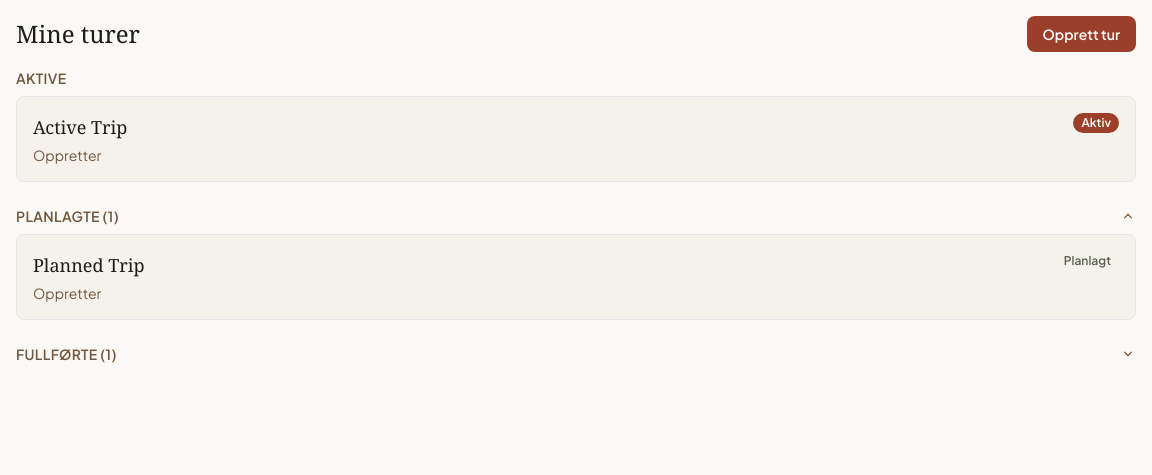
it: TripDashboardScreen › renders trips under correct status group headings
Check: the text "Active Trip" is shown, box 33,113 -> 127,141
Check: the text "Planned Trip" is shown, box 33,251 -> 144,279
Click the button "Fullførte (1)": {"x": 57, "y": 354} 16,344 -> 1136,364
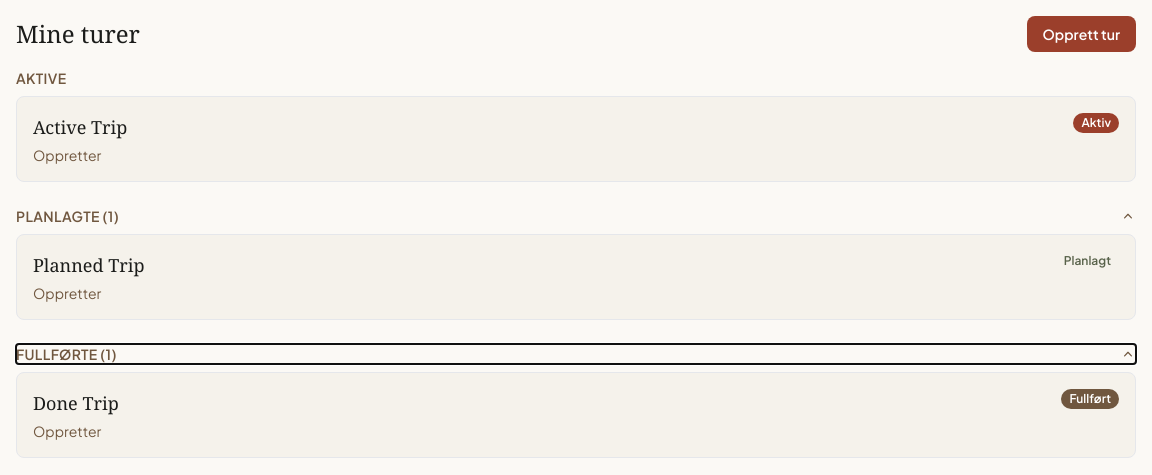
Check: the text "Done Trip" is shown, box 33,389 -> 119,417
